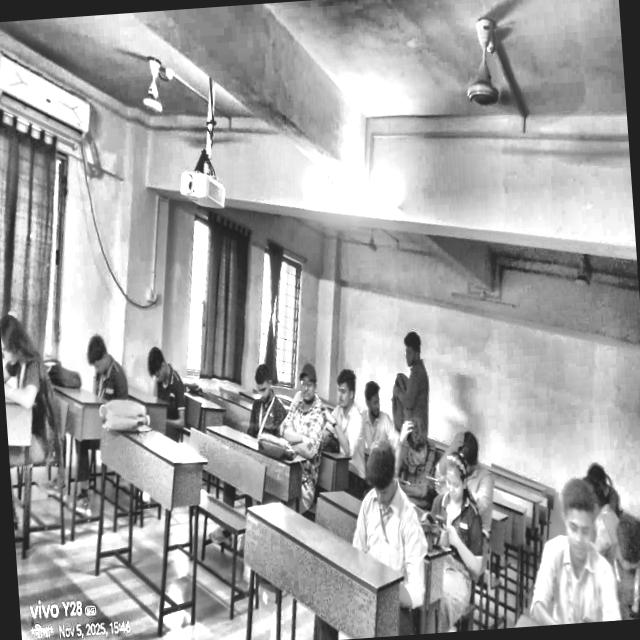Not Focus: (0, 289, 227, 591), (354, 364, 508, 635), (529, 409, 640, 625), (232, 319, 367, 473)
